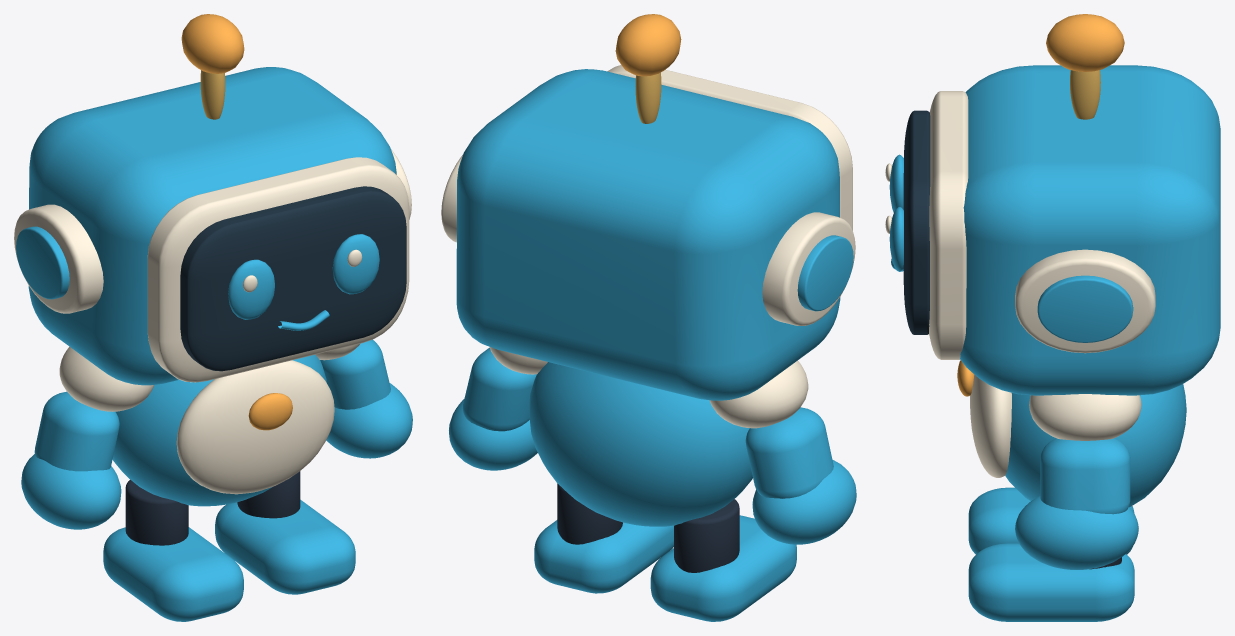
File: robot.glb
The picture shows the model from 3 angles, left to right: view 1: azimuth 30°, elevation 25°; view 2: azimuth 150°, elevation 25°; view 3: azimuth 270°, elevation 25°; orthographic projection. The views are drawn at different scales.
Parts seen in each view (by area): view 1: Sky, Porcelain, Midnight glass, Ink, Tangerine, Brass; view 2: Sky, Porcelain, Ink, Tangerine, Brass; view 3: Sky, Porcelain, Midnight glass, Tangerine, Brass.
Boxes of the visible parts, x1,y1,x2,y2 form: Sky: (16, 67, 412, 621); Porcelain: (14, 149, 411, 494); Midnight glass: (180, 186, 406, 371); Ink: (125, 471, 300, 545); Tangerine: (181, 14, 292, 430); Brass: (200, 70, 225, 119); Sky: (449, 69, 856, 621); Porcelain: (441, 65, 855, 428); Ink: (557, 483, 739, 572); Tangerine: (615, 14, 681, 76); Brass: (635, 72, 661, 123); Sky: (889, 65, 1220, 621); Porcelain: (885, 91, 1155, 477); Midnight glass: (903, 110, 930, 334); Tangerine: (957, 14, 1124, 396); Brass: (1070, 70, 1100, 119).
Size of the model in its own units: 2.1 by 3 by 1.61.
